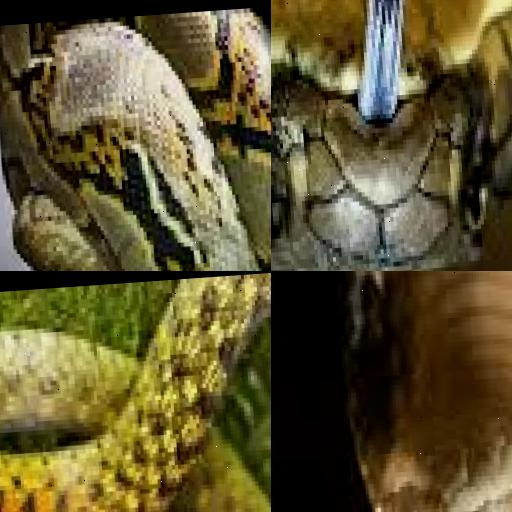snake: (0, 0, 271, 271), (271, 0, 512, 271), (0, 271, 271, 512), (271, 271, 512, 512)
